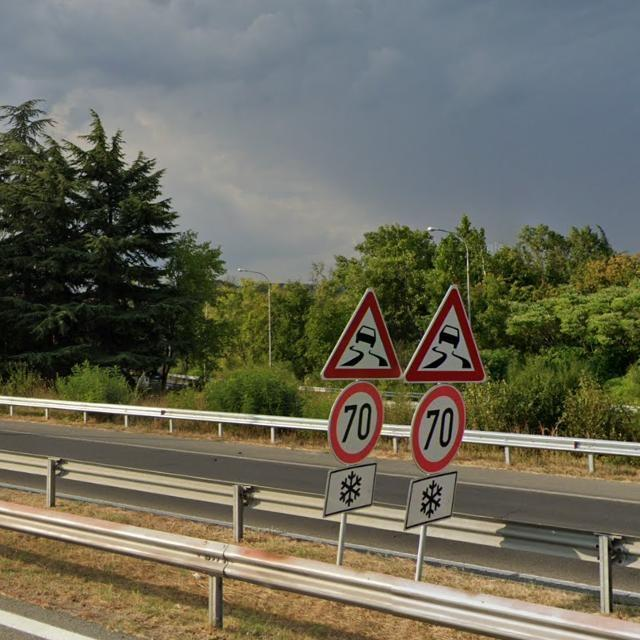forb_speed_over_70: (328, 381, 383, 464), (414, 389, 466, 471)
